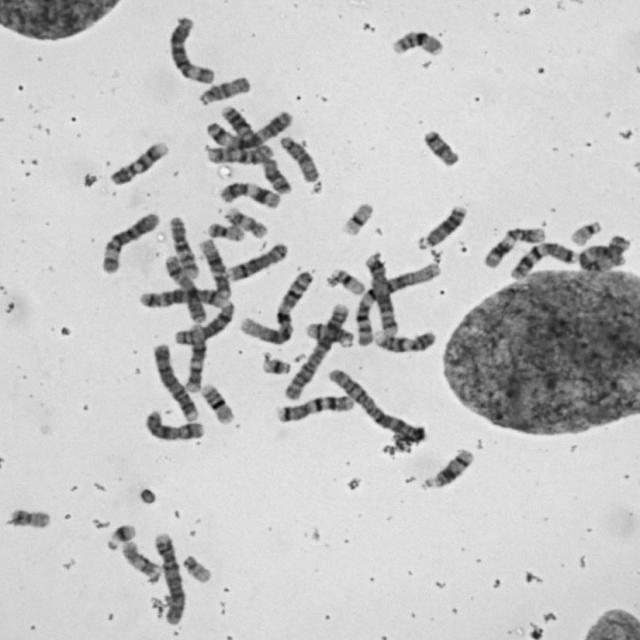A1: (352, 258, 442, 347), (236, 266, 316, 346)
A2: (322, 364, 427, 446), (282, 300, 352, 400)
A3: (202, 108, 295, 152), (576, 233, 633, 274)
B4: (150, 340, 200, 421), (151, 530, 186, 625)
B5: (362, 250, 400, 338), (136, 285, 230, 310)
C10: (165, 212, 200, 281), (202, 141, 276, 165)
C11: (479, 222, 547, 270), (216, 178, 282, 210)
C12: (195, 234, 232, 304), (178, 321, 208, 394)
C6: (97, 208, 161, 276), (166, 14, 217, 85)
C7: (506, 238, 580, 281), (272, 392, 356, 423)
C8: (172, 298, 236, 346), (223, 238, 291, 282)
C9: (107, 138, 171, 186), (368, 327, 438, 354)
D13: (414, 201, 469, 251), (218, 102, 258, 146)
D14: (418, 444, 476, 492), (302, 318, 356, 349)
D15: (276, 133, 321, 183), (195, 73, 253, 106)
E16: (388, 27, 444, 58), (198, 382, 236, 426)
E17: (119, 540, 163, 580), (222, 206, 269, 240)
E18: (420, 126, 461, 169), (258, 155, 292, 196)
F19: (338, 199, 376, 237), (325, 264, 367, 297)
F20: (5, 504, 53, 530), (204, 220, 247, 243)
G21: (103, 520, 138, 552), (260, 354, 292, 376)
G22: (567, 216, 605, 246), (180, 552, 214, 584)
X: (162, 255, 209, 326), (142, 406, 206, 444)
